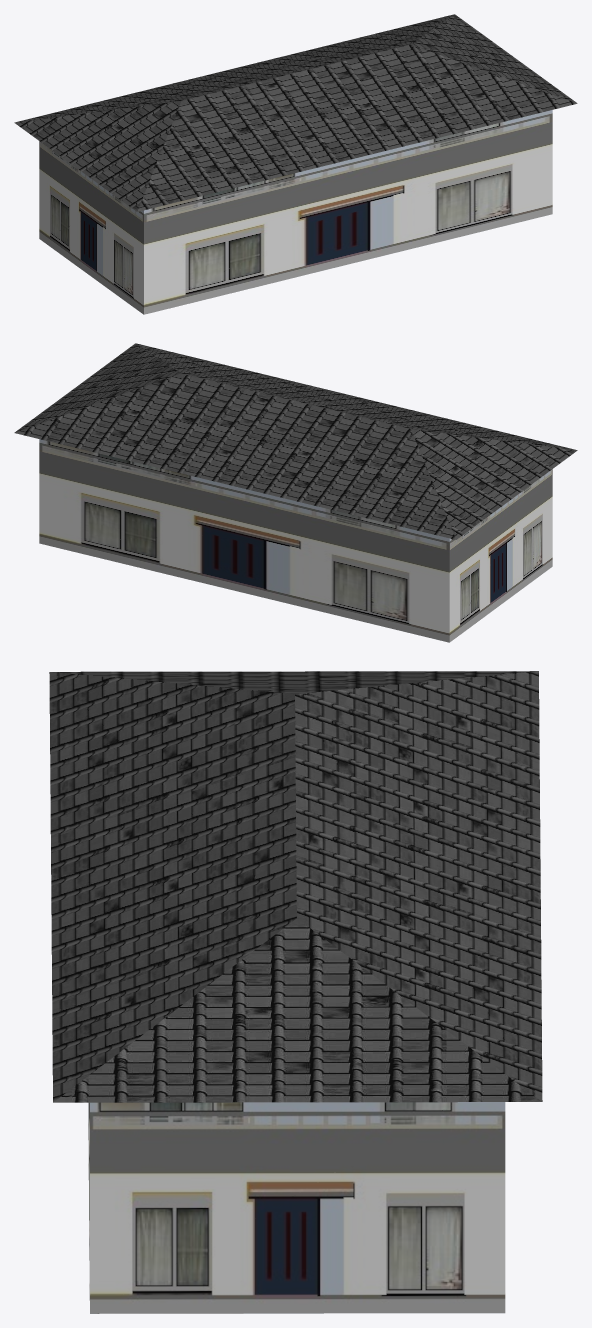
The picture shows the model from 3 angles, top to bottom: view 1: azimuth 30°, elevation 25°; view 2: azimuth 150°, elevation 25°; view 3: azimuth 270°, elevation 25°; orthographic projection. The views are drawn at different scales.
Parts seen in each view (by area): view 1: CityEngineMaterial_7_m, CityEngineMaterial_8_m; view 2: CityEngineMaterial_7_m, CityEngineMaterial_8_m; view 3: CityEngineMaterial_8_m, CityEngineMaterial_7_m.
Part boxes in pixels (left/top/right/bottom): CityEngineMaterial_7_m: left=39, top=110, right=552, bottom=314; CityEngineMaterial_8_m: left=14, top=14, right=577, bottom=211; CityEngineMaterial_7_m: left=39, top=439, right=552, bottom=642; CityEngineMaterial_8_m: left=14, top=343, right=577, bottom=539; CityEngineMaterial_8_m: left=49, top=671, right=542, bottom=1102; CityEngineMaterial_7_m: left=88, top=1102, right=505, bottom=1313.
Size of the model in its own units: 25.93 by 8.61 by 12.52.
